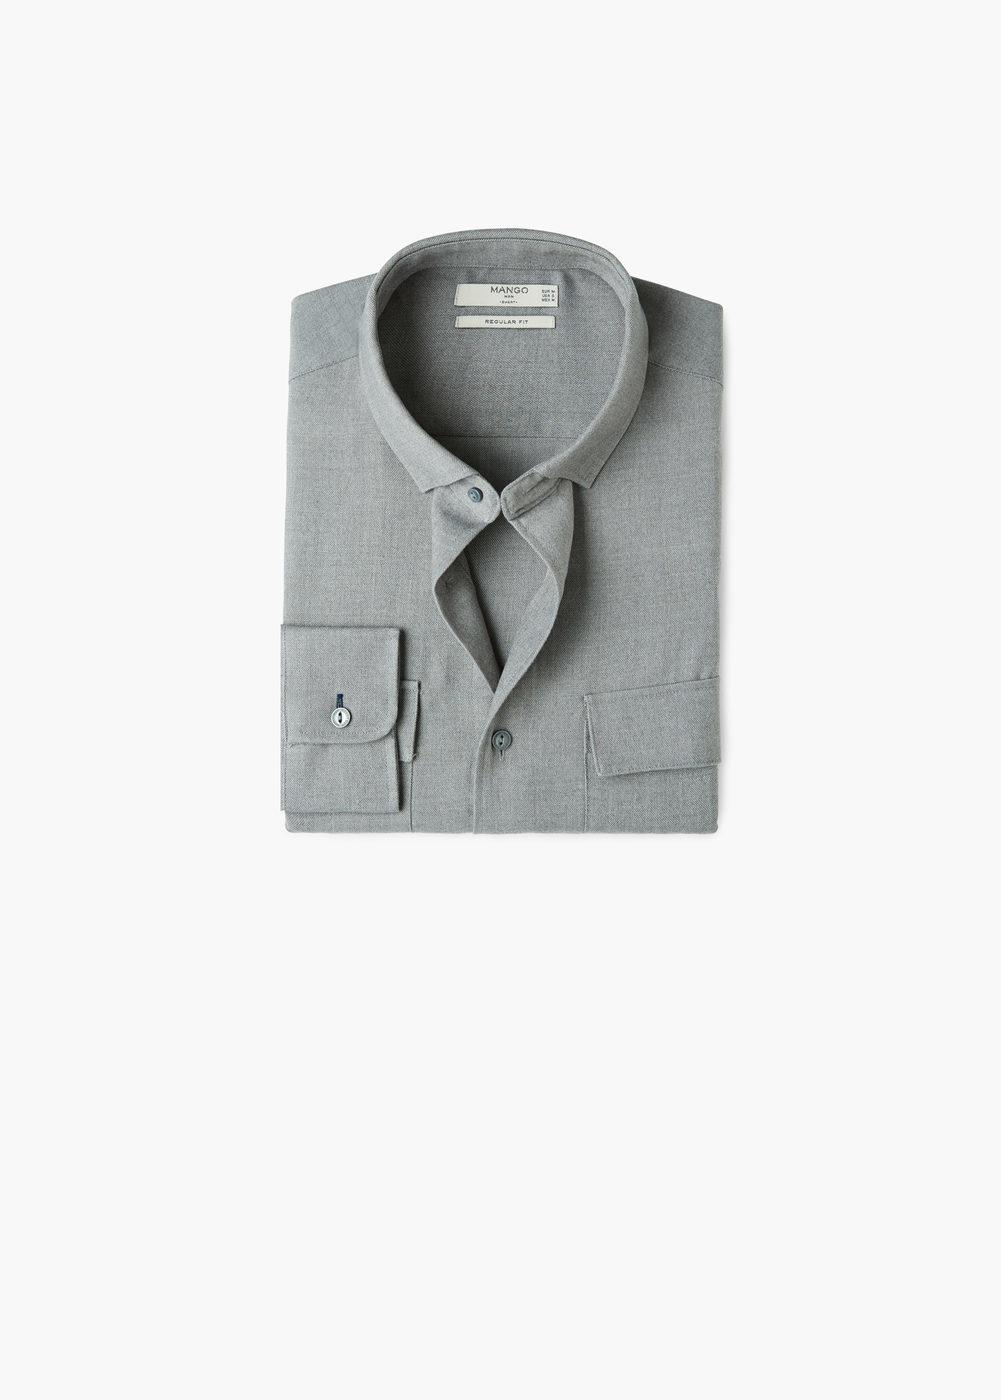teeshirt: (276, 225, 740, 861)
